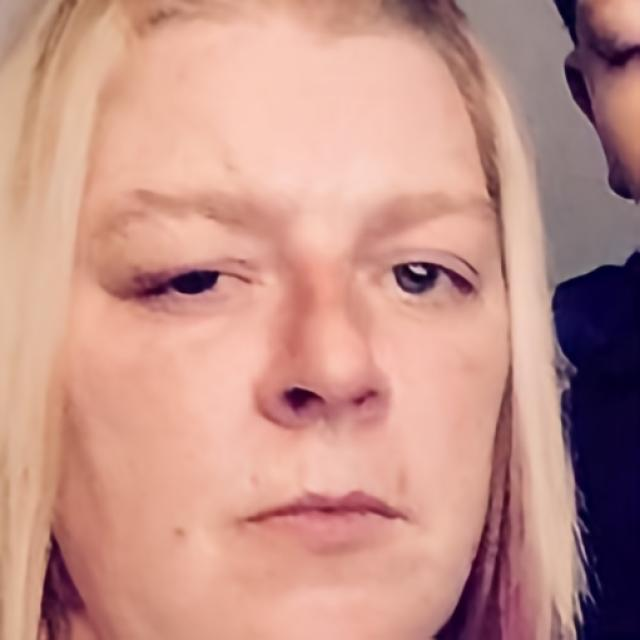sad: (42, 1, 514, 640)
